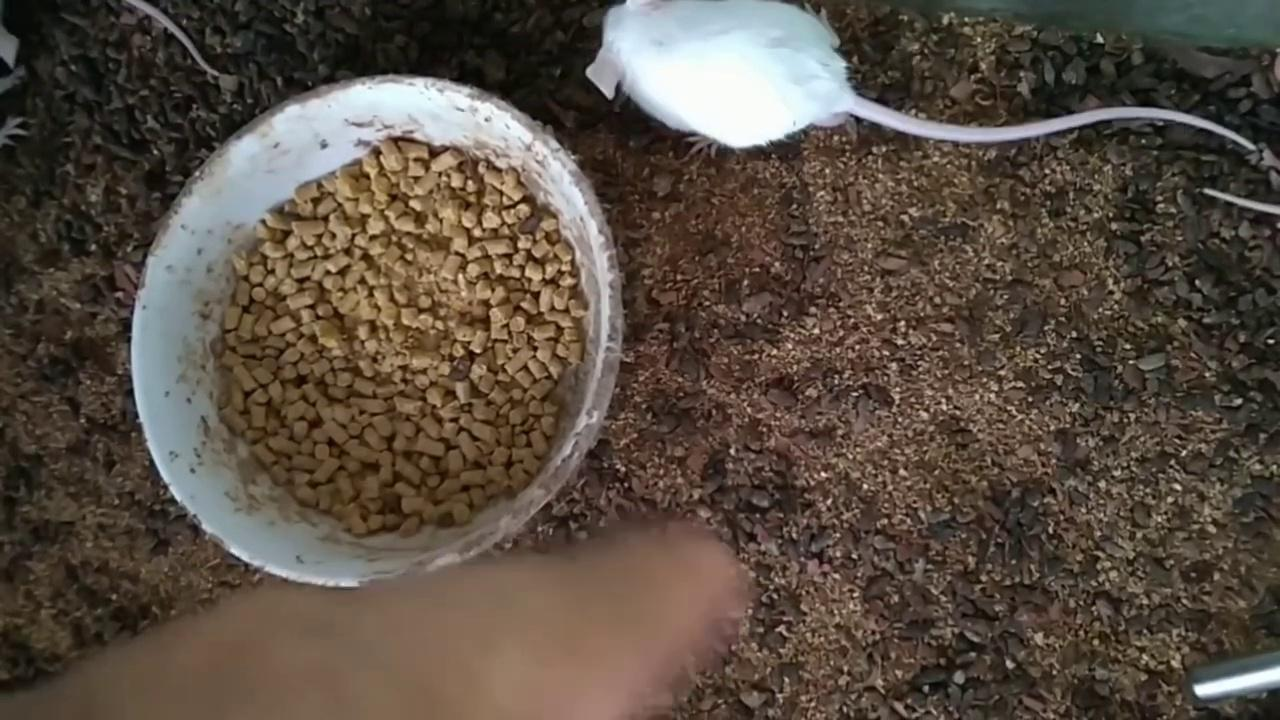rat: (585, 0, 1258, 157)
